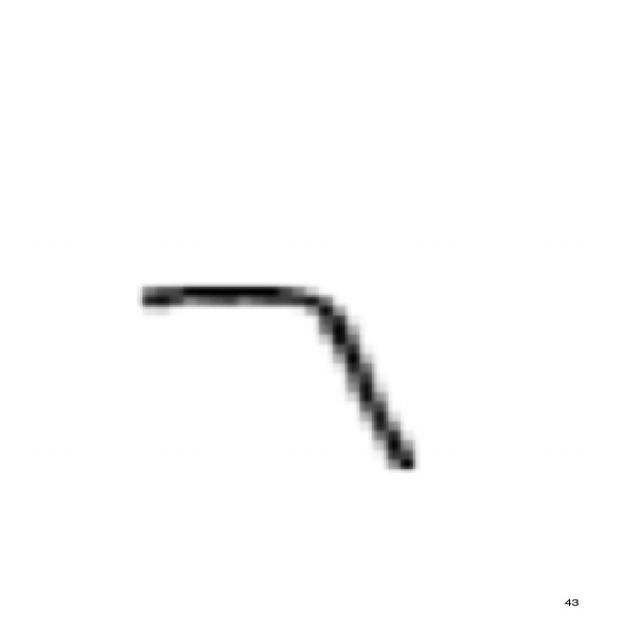6 -six-: (129, 272, 427, 484)
